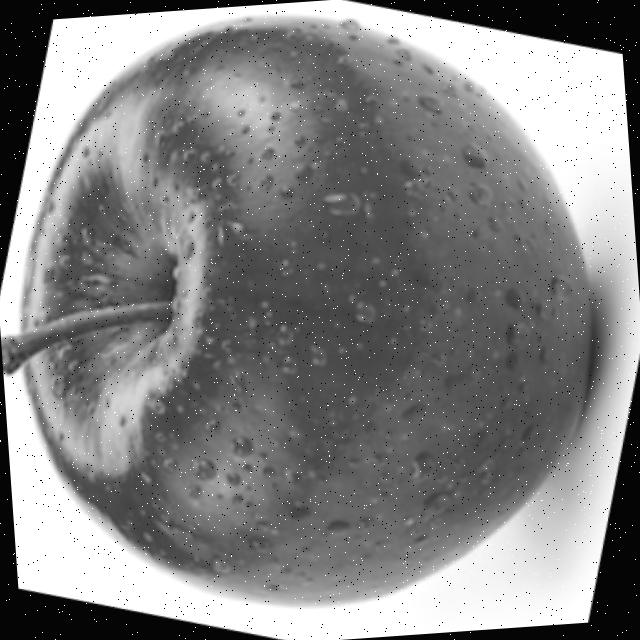Ripe: (0, 0, 618, 629)
